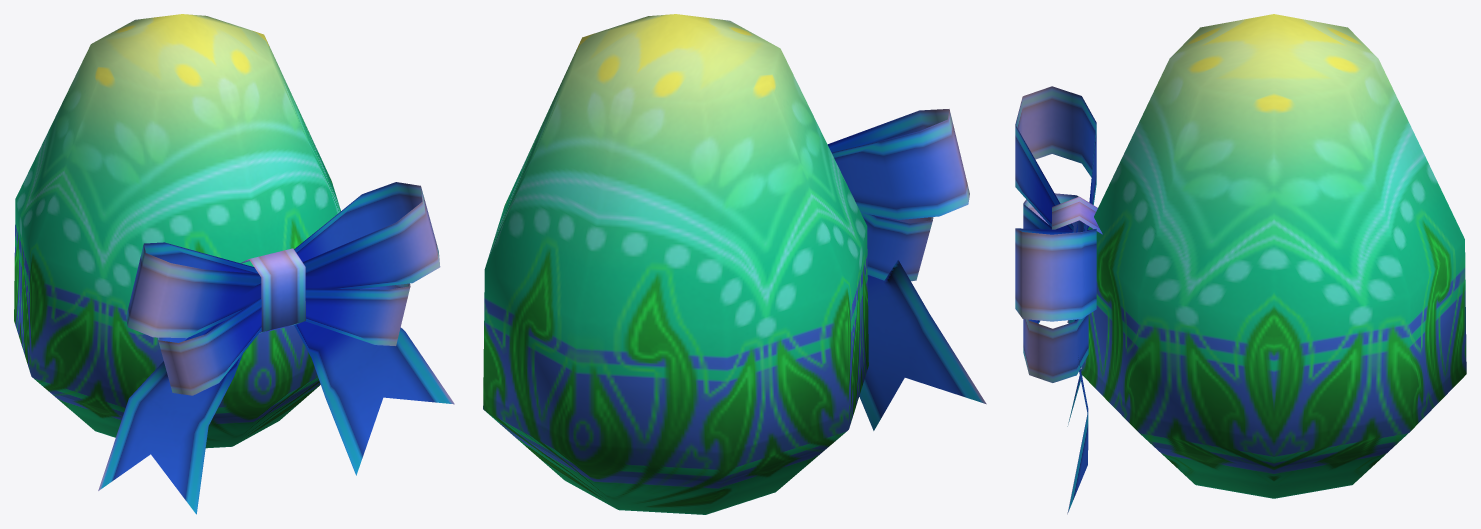
File: Egg_05.FBX
The picture shows the model from 3 angles, left to right: view 1: azimuth 30°, elevation 25°; view 2: azimuth 150°, elevation 25°; view 3: azimuth 270°, elevation 25°; orthographic projection. The views are drawn at different scales.
Parts seen in each view (by area): view 1: Egg_05; view 2: Egg_05; view 3: Egg_05.
Part boxes in pixels (x1,y1,x2,y2): Egg_05: (14, 14, 454, 514); Egg_05: (483, 14, 986, 514); Egg_05: (1015, 14, 1466, 514).
Size of the model in its own units: 0.5564 by 0.6156 by 0.551.
